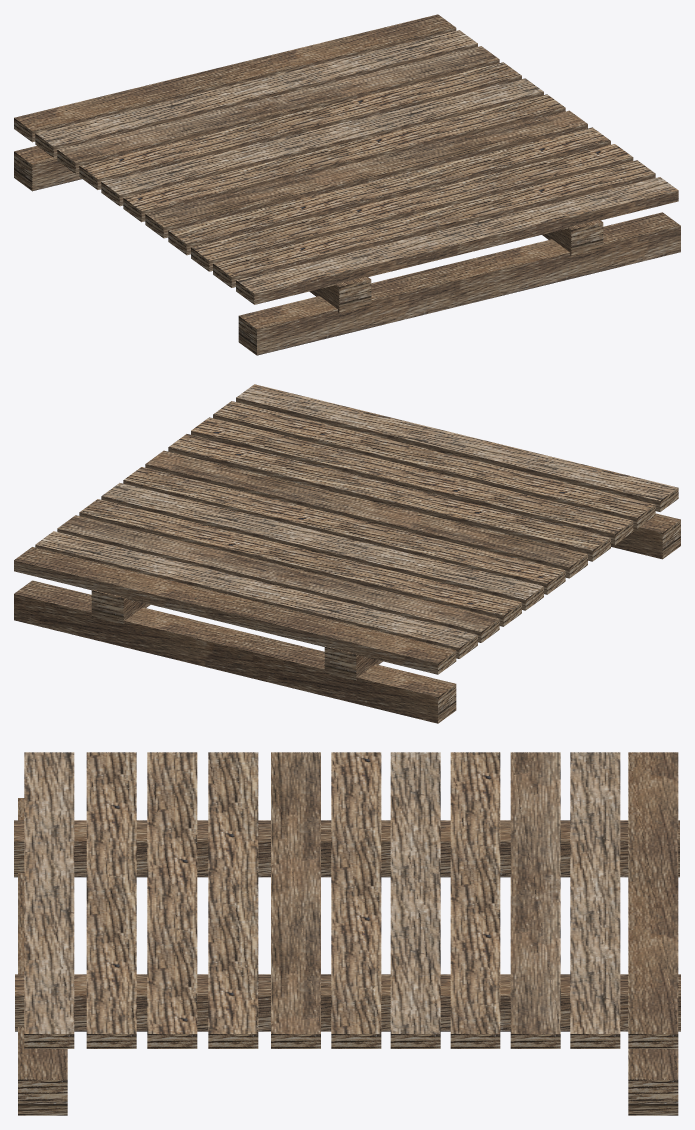
Rendered from Puente .fbx.
The picture shows the model from 3 angles, top to bottom: view 1: azimuth 30°, elevation 25°; view 2: azimuth 150°, elevation 25°; view 3: azimuth 270°, elevation 25°; orthographic projection. The views are drawn at different scales.
Visible parts, largest first — view 1: Piso 4x4; view 2: Piso 4x4; view 3: Piso 4x4.
Boxes of the visible parts, x1,y1,x2,y2 form: Piso 4x4: [14, 14, 680, 355]; Piso 4x4: [14, 384, 680, 723]; Piso 4x4: [14, 752, 680, 1115].
Bounding box in the file's own units: 400 × 54.14 × 401.
1 material, 1 textured.
